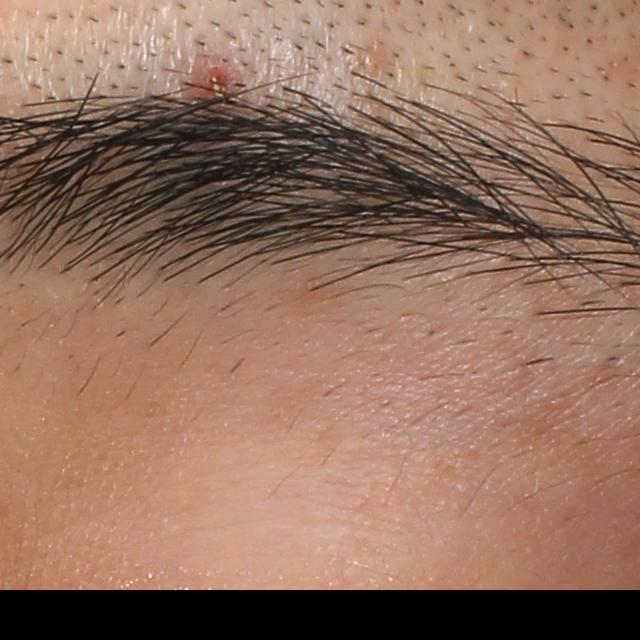papule: (196, 57, 241, 101)
